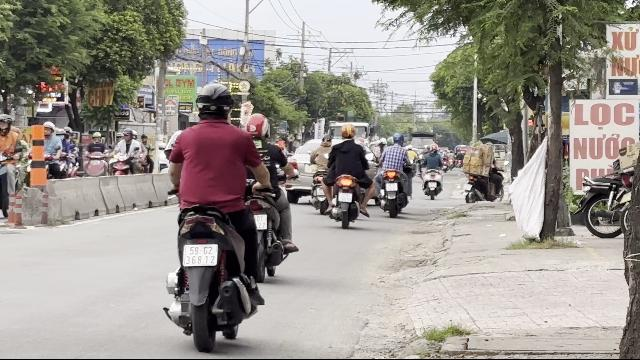helmet: (192, 82, 234, 122), (244, 112, 268, 139)
licenseplate: (183, 244, 217, 266)
motorcyclist: (160, 80, 270, 350), (244, 109, 298, 280)
